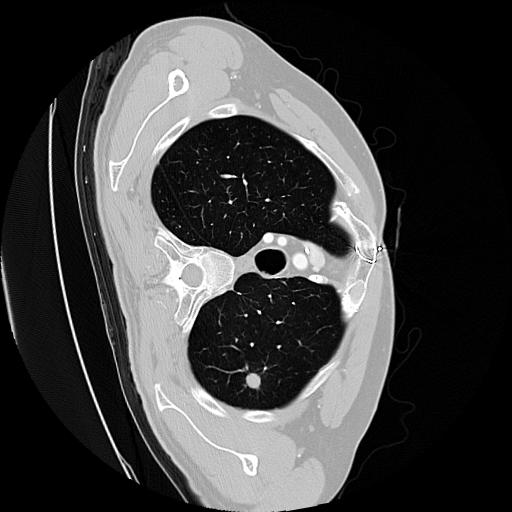nodule: (242, 370, 266, 394)
